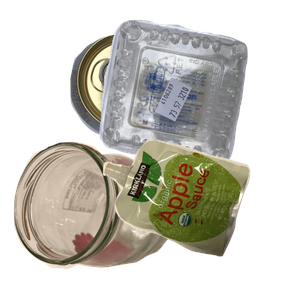glass: (11, 139, 179, 300)
metal: (68, 28, 237, 159)
plastic: (97, 17, 300, 176)
trash: (100, 137, 300, 300)
